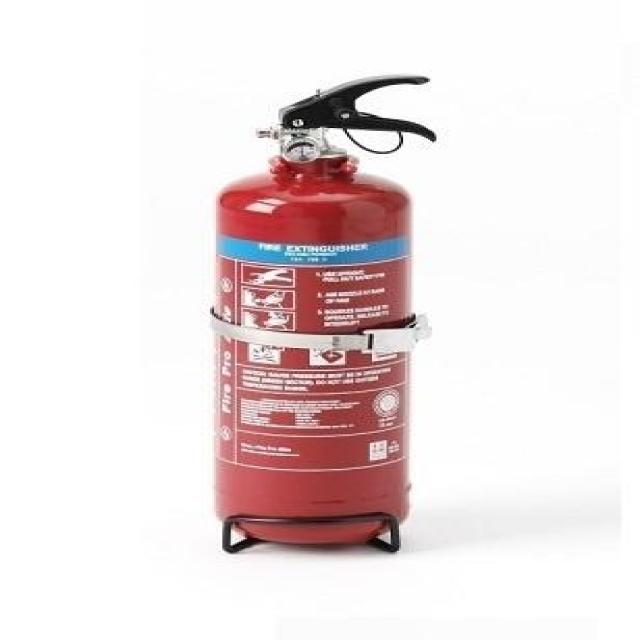fire_extinguisher: (200, 67, 440, 553)
